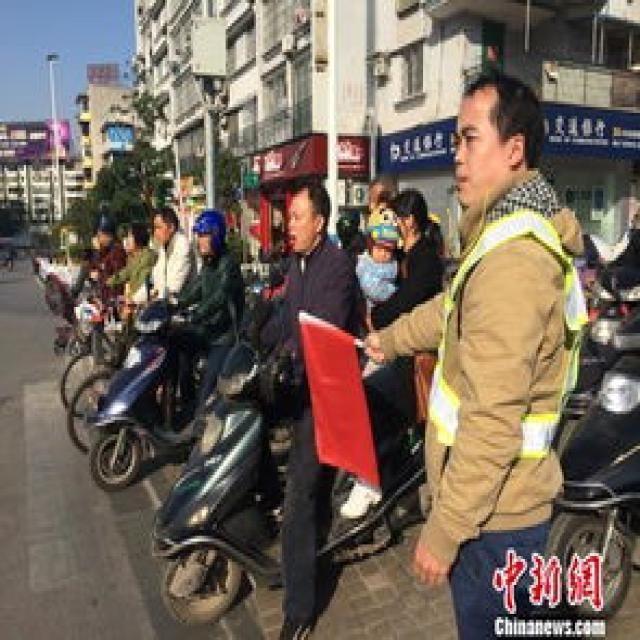10-: (72, 64, 638, 628)
